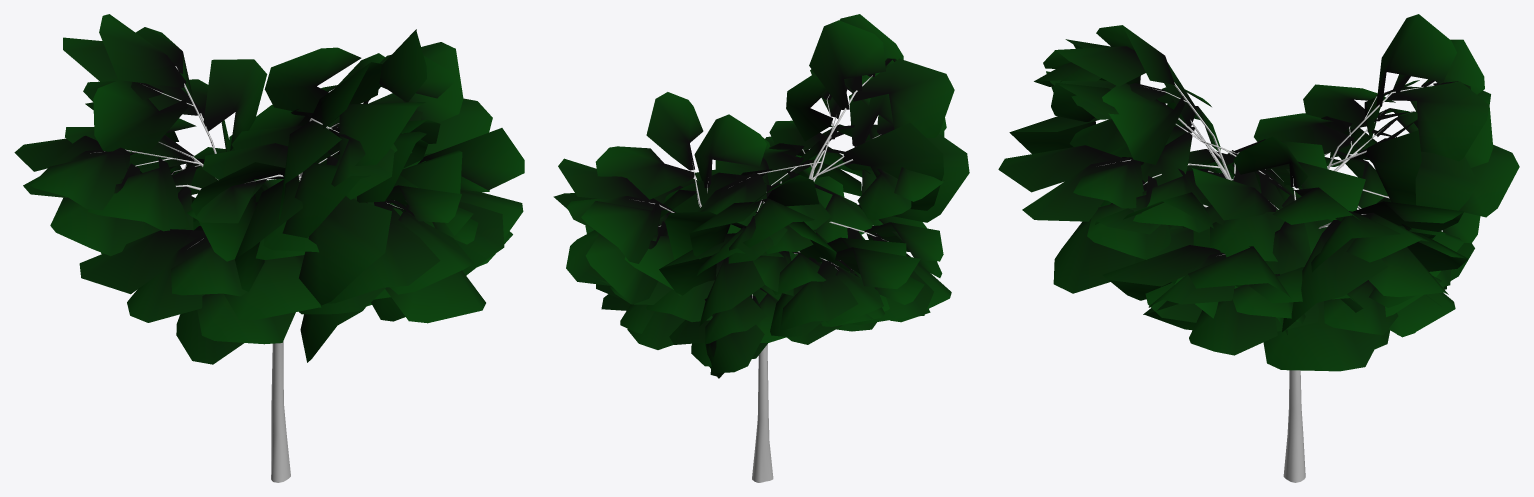
Rendered from CupuacuTree02_afsTREE_xlprl05_xlt_xef20_xmw03_xlb05_xlod00.fbx.
The picture shows the model from 3 angles, left to right: view 1: azimuth 30°, elevation 25°; view 2: azimuth 150°, elevation 25°; view 3: azimuth 270°, elevation 25°; orthographic projection. The views are drawn at different scales.
Visible parts, largest first — view 1: branch00_00.034, branch00_00.002, branch02_02.030, branch02_02.037, branch00_00.007, branch02_02.045, branch02_02.025, branch02_02.031, branch02_02.047, branch00_00.006, branch00_00.032, branch02_02.046 (+42 smaller); view 2: branch00_00.033, branch00_00.031, branch00_00.027, branch02_02.025, branch.021, branch.018, branch02_02.044, branch.028, branch02_02.027, branch02_02.047, branch00_00.011, branch00_00.028 (+47 smaller); view 3: branch00_00.010, branch02_02.062, branch00_00.006, branch02_02.026, branch00_00.030, branch02_02.042, branch02_02.020, branch02_02.037, branch02_02.051, branch02_02.016, branch00_00.008, branch00_00.007 (+43 smaller).
Part boxes in pixels (x1,y1,x2,y2): branch00_00.034: (299, 196, 391, 305); branch00_00.002: (93, 80, 188, 158); branch02_02.030: (79, 229, 207, 294); branch02_02.037: (327, 200, 440, 303); branch00_00.007: (203, 59, 267, 150); branch02_02.045: (88, 158, 190, 231); branch02_02.025: (264, 47, 361, 112); branch02_02.031: (224, 255, 321, 319); branch02_02.047: (31, 147, 130, 210); branch00_00.006: (99, 14, 186, 87); branch00_00.032: (316, 102, 425, 165); branch02_02.046: (50, 163, 145, 256); branch00_00.033: (852, 58, 954, 137); branch00_00.031: (809, 20, 885, 109); branch00_00.027: (842, 122, 943, 210); branch02_02.025: (581, 201, 661, 263); branch.021: (595, 146, 694, 199); branch.018: (694, 114, 766, 188); branch02_02.044: (780, 260, 858, 330); branch.028: (646, 92, 703, 170); branch02_02.027: (585, 221, 667, 304); branch02_02.047: (835, 247, 920, 289); branch00_00.011: (699, 257, 764, 326); branch00_00.028: (854, 134, 969, 222); branch00_00.010: (1387, 81, 1489, 161); branch02_02.062: (1263, 301, 1381, 371); branch00_00.006: (1376, 14, 1456, 106); branch02_02.026: (1282, 219, 1387, 331); branch00_00.030: (1102, 83, 1184, 164); branch02_02.042: (1053, 180, 1147, 293); branch02_02.020: (1189, 299, 1277, 355); branch02_02.037: (998, 145, 1123, 192); branch02_02.051: (1210, 174, 1284, 261); branch02_02.016: (1102, 245, 1220, 300); branch00_00.008: (1415, 151, 1477, 210); branch00_00.007: (1365, 130, 1421, 205).
Size of what is drawn, in the model's own units: 2.72 by 3.02 by 2.89.
